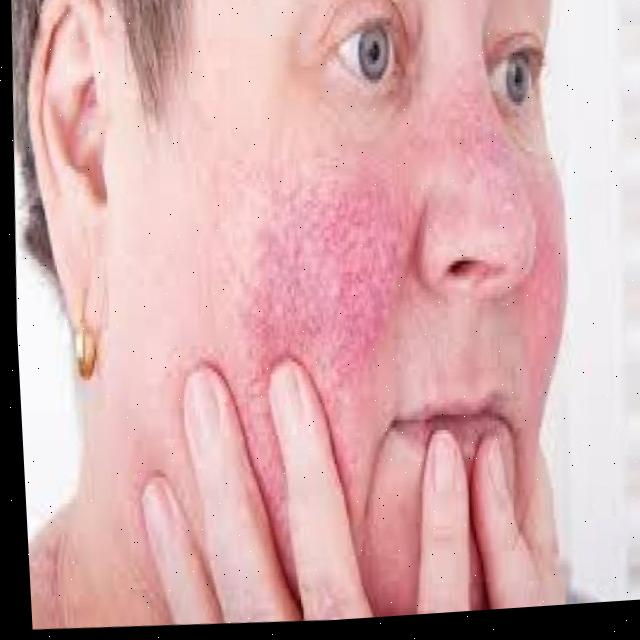Rosacea: (272, 168, 403, 353), (434, 104, 503, 164), (526, 209, 573, 297)
